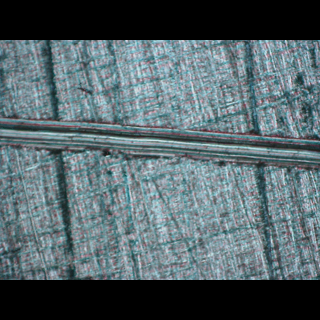d: (1, 114, 319, 178)
